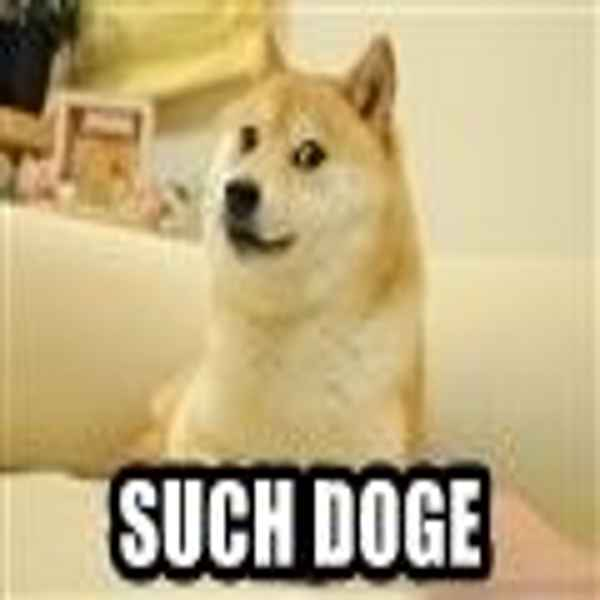doge: (206, 54, 416, 286)
